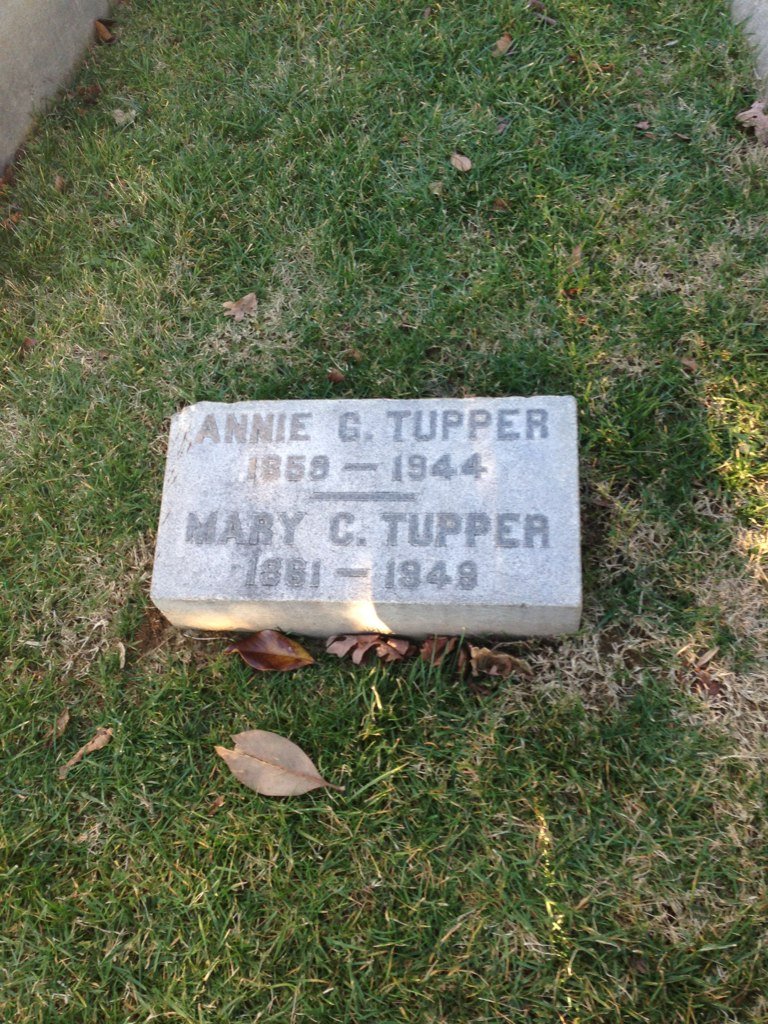flat: (148, 388, 583, 641)
